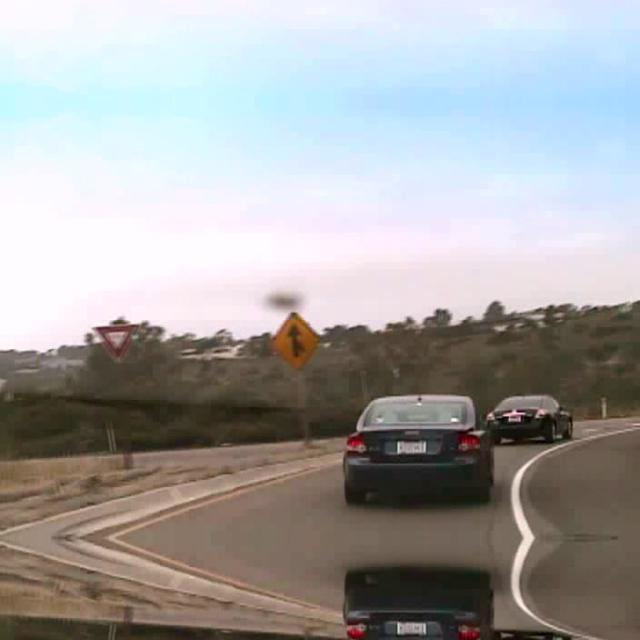yield: (91, 321, 139, 361)
